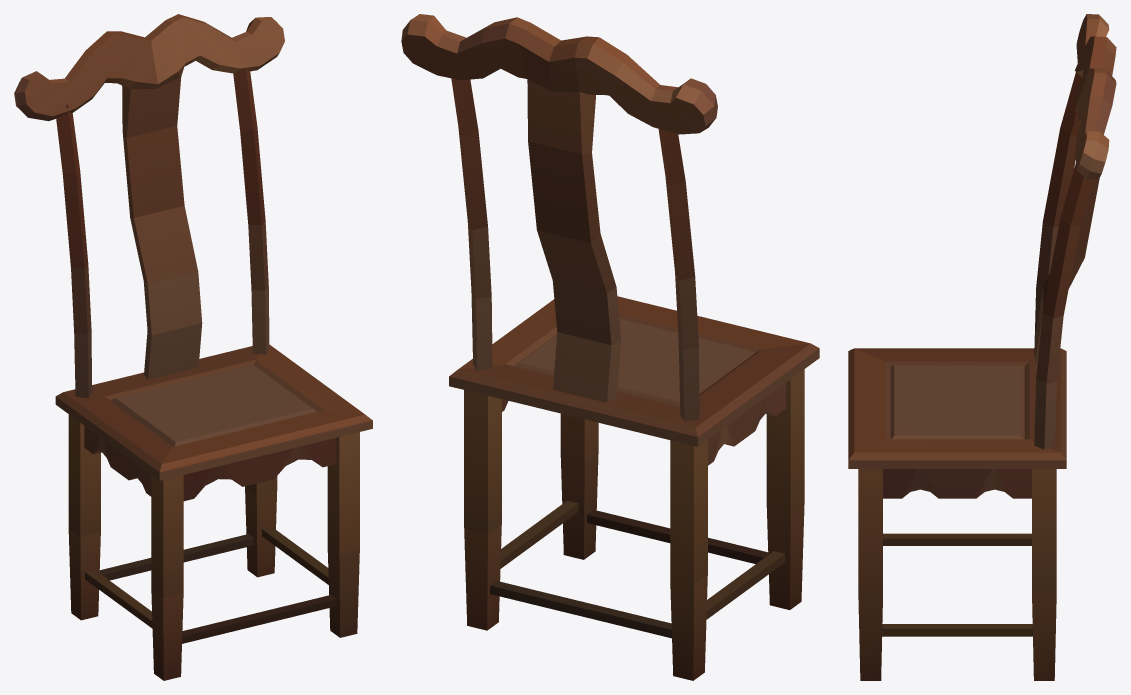
File: Furniture_ChairB.fbx
The picture shows the model from 3 angles, left to right: view 1: azimuth 30°, elevation 25°; view 2: azimuth 150°, elevation 25°; view 3: azimuth 270°, elevation 25°; orthographic projection. The views are drawn at different scales.
Visible parts, largest first — view 1: Furniture_ChairB; view 2: Furniture_ChairB; view 3: Furniture_ChairB.
Part boxes in pixels (left/top/right/bottom): Furniture_ChairB: left=14, top=14, right=372, bottom=680; Furniture_ChairB: left=401, top=14, right=819, bottom=680; Furniture_ChairB: left=848, top=14, right=1116, bottom=680.
Size of the model in its own units: 85.75 by 169 by 71.14.
